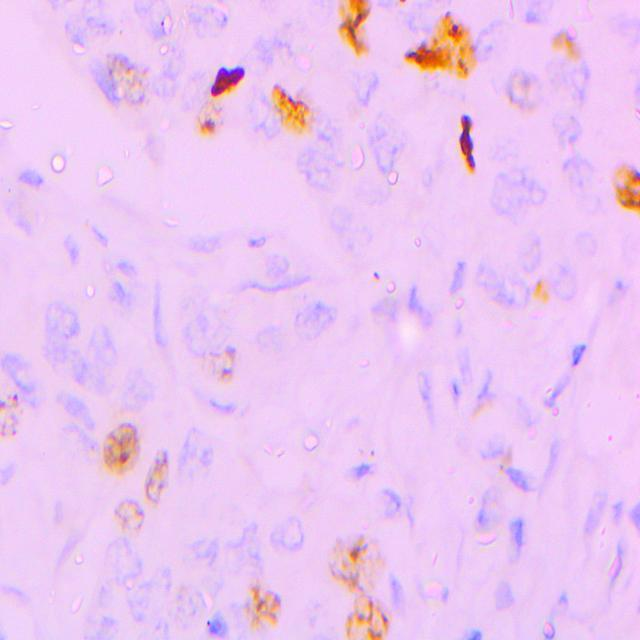Healthy cell: (363, 104, 414, 174), (488, 166, 552, 217), (50, 2, 115, 50), (302, 127, 348, 193), (469, 264, 529, 312), (556, 156, 604, 214), (56, 383, 97, 444), (40, 299, 74, 371), (1, 344, 42, 398), (286, 299, 338, 338), (176, 424, 215, 476), (102, 535, 139, 589), (149, 42, 184, 99), (168, 579, 205, 631), (130, 568, 161, 630), (75, 322, 106, 384), (522, 219, 554, 279), (116, 369, 158, 413), (550, 106, 590, 150), (226, 524, 262, 572), (266, 510, 303, 554), (130, 0, 172, 38), (186, 8, 232, 41), (369, 486, 404, 523), (349, 66, 380, 107), (183, 536, 221, 568), (550, 263, 578, 304), (14, 163, 48, 192), (344, 457, 374, 486), (209, 607, 231, 640)
cancer-cell-QiJm: (398, 13, 478, 85), (323, 526, 392, 596), (268, 77, 324, 142), (340, 587, 395, 640), (239, 580, 291, 634), (103, 50, 151, 106), (140, 443, 180, 504), (97, 422, 138, 476), (106, 490, 148, 535), (0, 387, 29, 448), (614, 153, 640, 221), (510, 68, 545, 116), (207, 63, 251, 101), (193, 96, 233, 136), (203, 348, 244, 387), (332, 18, 369, 58), (546, 29, 584, 66), (333, 0, 371, 27), (460, 134, 484, 174), (530, 279, 558, 313), (469, 388, 494, 420), (453, 113, 485, 136), (491, 444, 512, 468), (503, 0, 522, 24), (363, 262, 380, 286), (391, 0, 414, 13)
